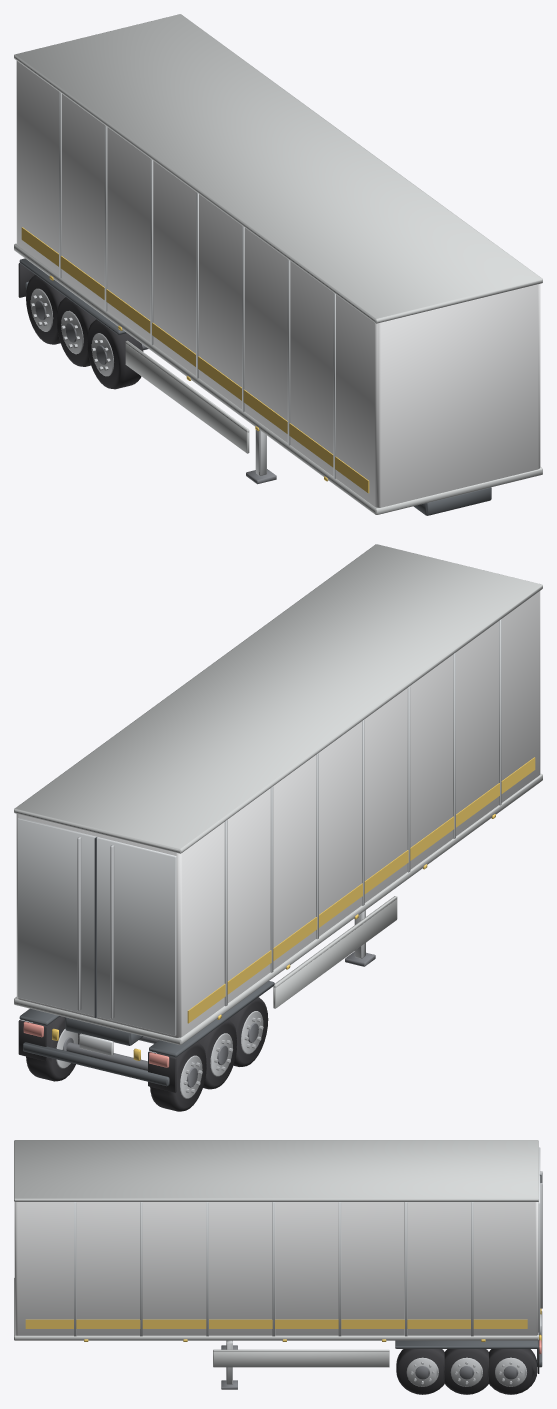
Rendered from trailer_box.glb.
3 views of the same model, one above another, from view 1: azimuth 30°, elevation 25°; view 2: azimuth 150°, elevation 25°; view 3: azimuth 270°, elevation 25° (orthographic). The views are drawn at different scales.
Visible parts, largest first — view 1: Body; view 2: Body; view 3: Body.
Part boxes in pixels (x1,y1,x2,y2): Body: [14, 14, 542, 515]; Body: [14, 544, 542, 1111]; Body: [14, 1140, 542, 1394].
Size of the model in its own units: 2.57 by 4.02 by 9.59.
